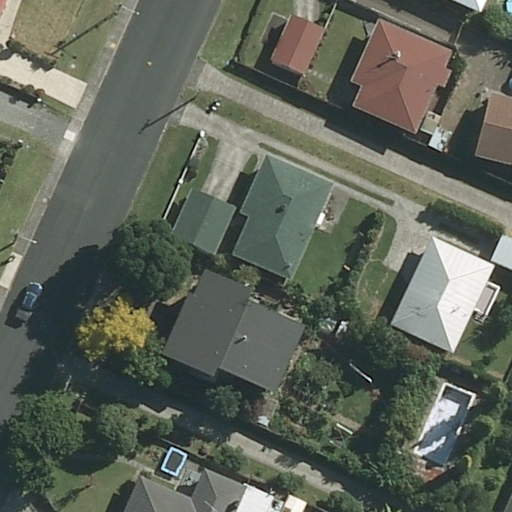DT: (111, 1, 126, 20), (191, 84, 204, 105)
